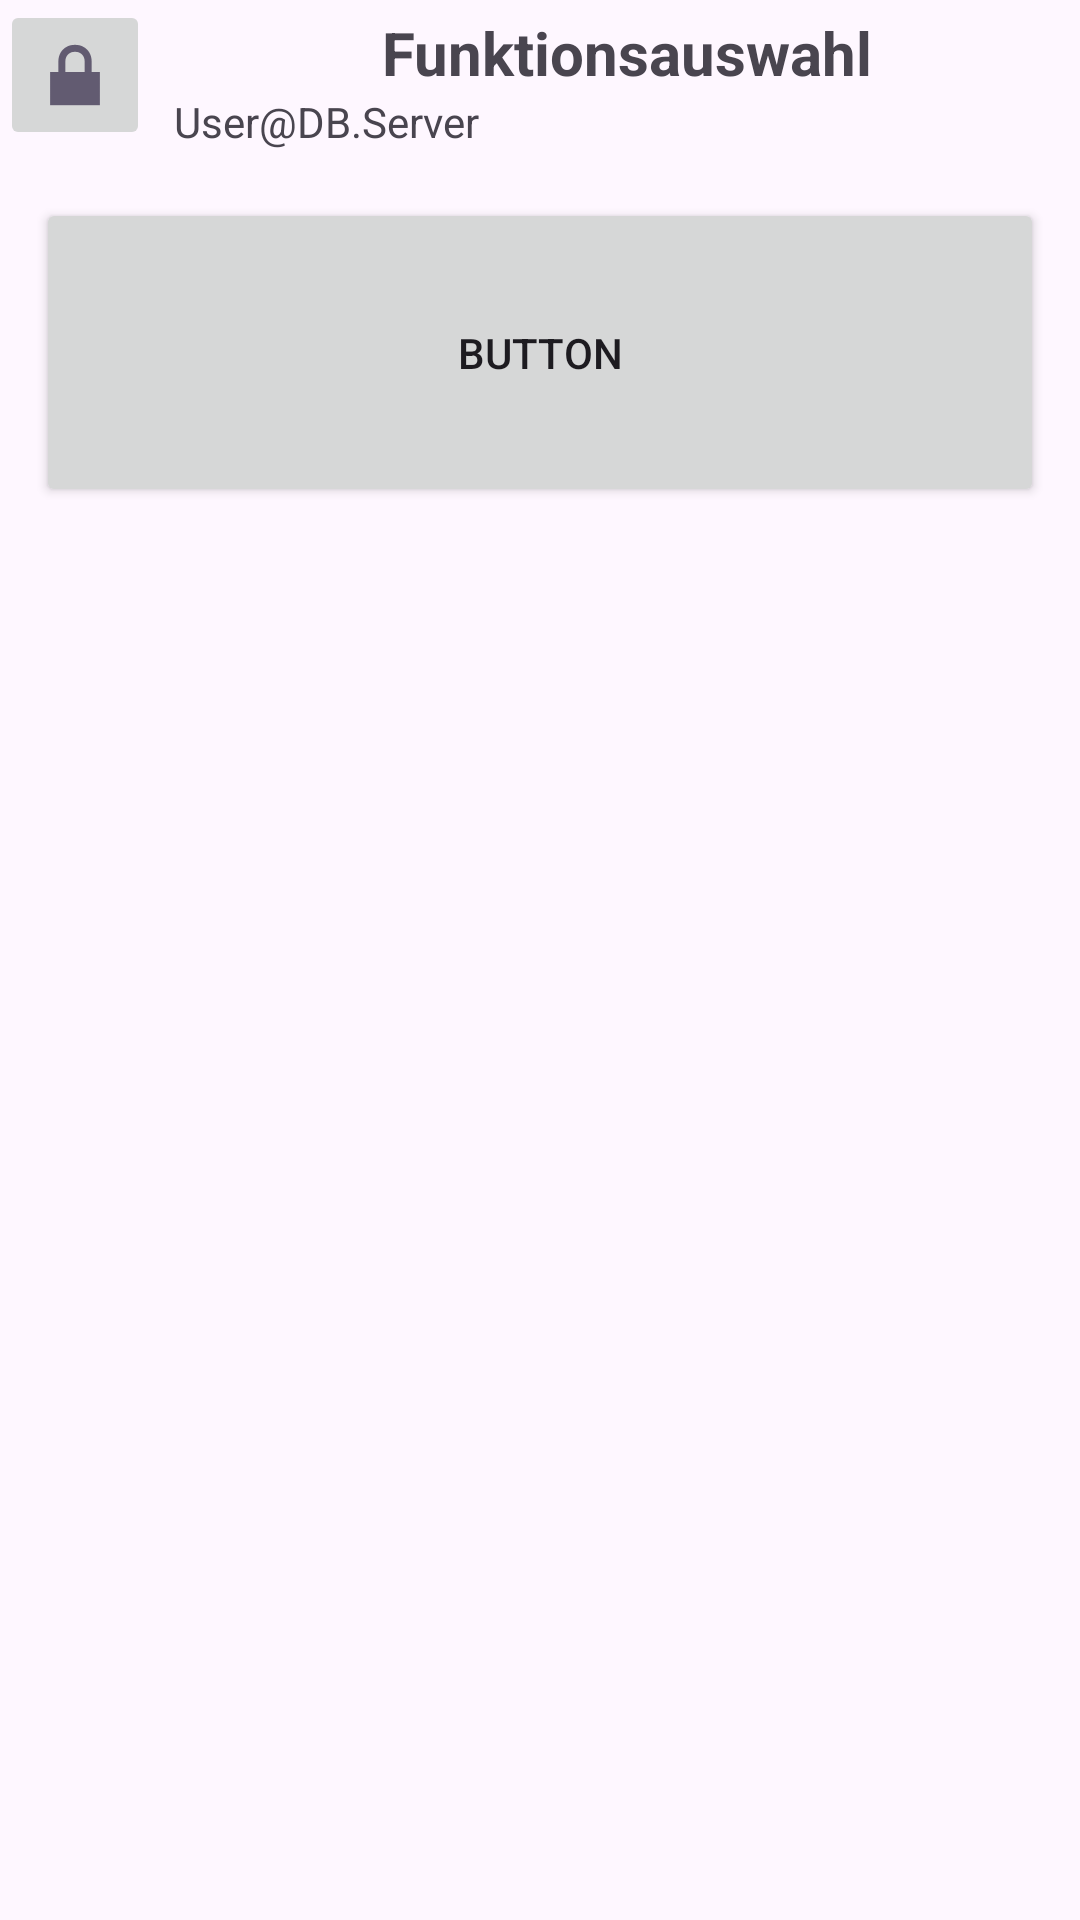

Named icons in this screenshot (1080x1920) and their bounding boxes, [x1=x1, y1=y1, x2=x2, y2=y2]:
lock: [x1=12, y1=18, x2=138, y2=132]
